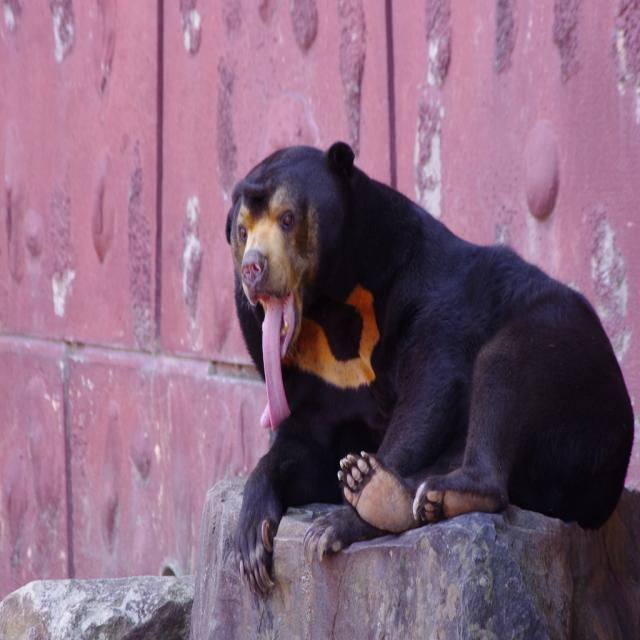Buffalo: (225, 142, 634, 600)
